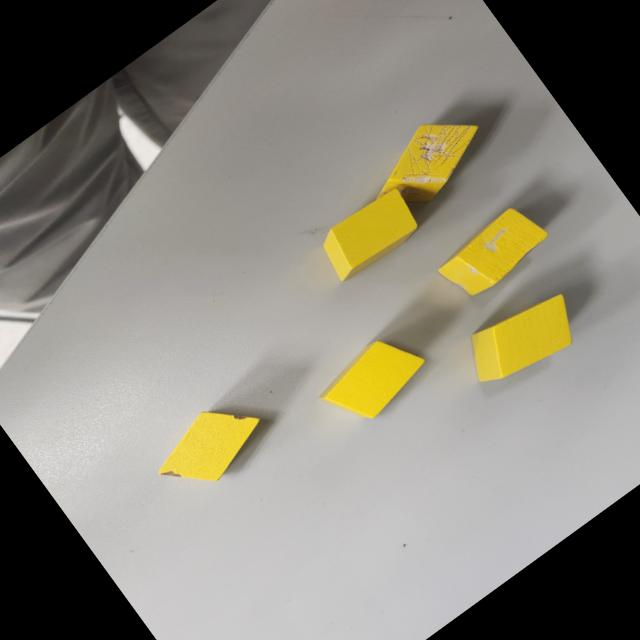broken: (355, 96, 499, 228), (141, 387, 273, 508), (432, 198, 553, 308)
yellow: (452, 276, 591, 402), (309, 322, 436, 438), (310, 180, 428, 288)
